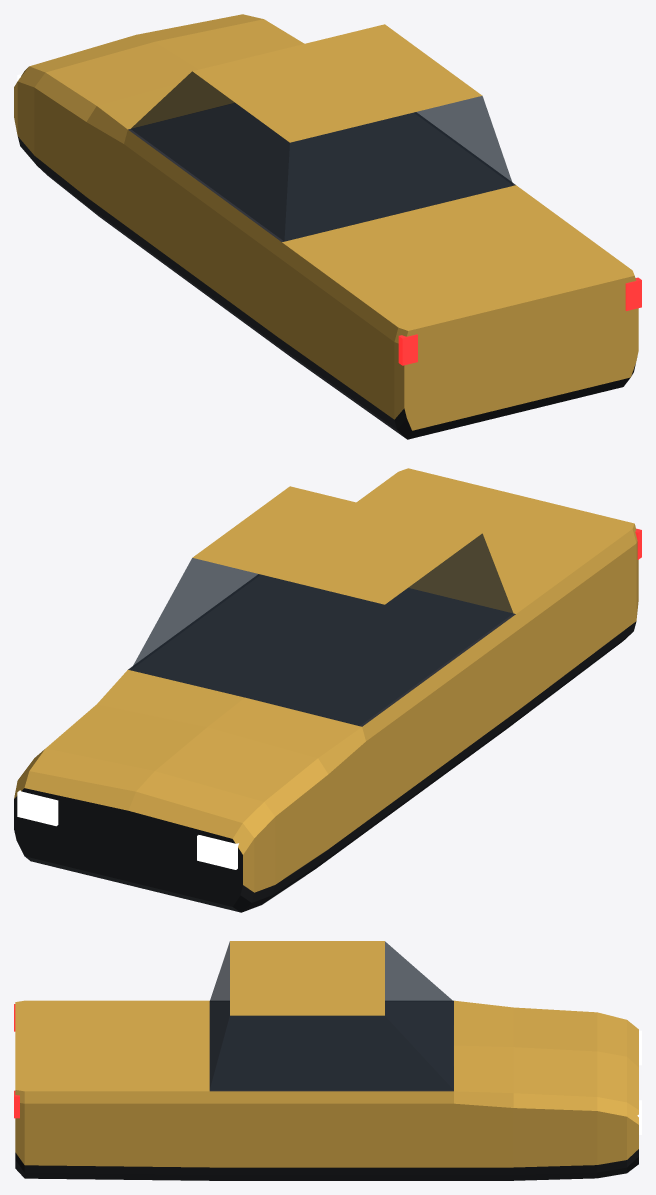
File: pickup_lod.glb
3 views of the same model, one above another, from view 1: azimuth 30°, elevation 25°; view 2: azimuth 150°, elevation 25°; view 3: azimuth 270°, elevation 25° (orthographic). The views are drawn at different scales.
Visible parts, largest first — view 1: Body; view 2: Body; view 3: Body.
Part boxes in pixels (x1,y1,x2,y2): Body: (14,14,641,439); Body: (14,468,641,912); Body: (14,941,641,1180).
Bounding box in the file's own units: 1.86 × 1.49 × 5.27.
